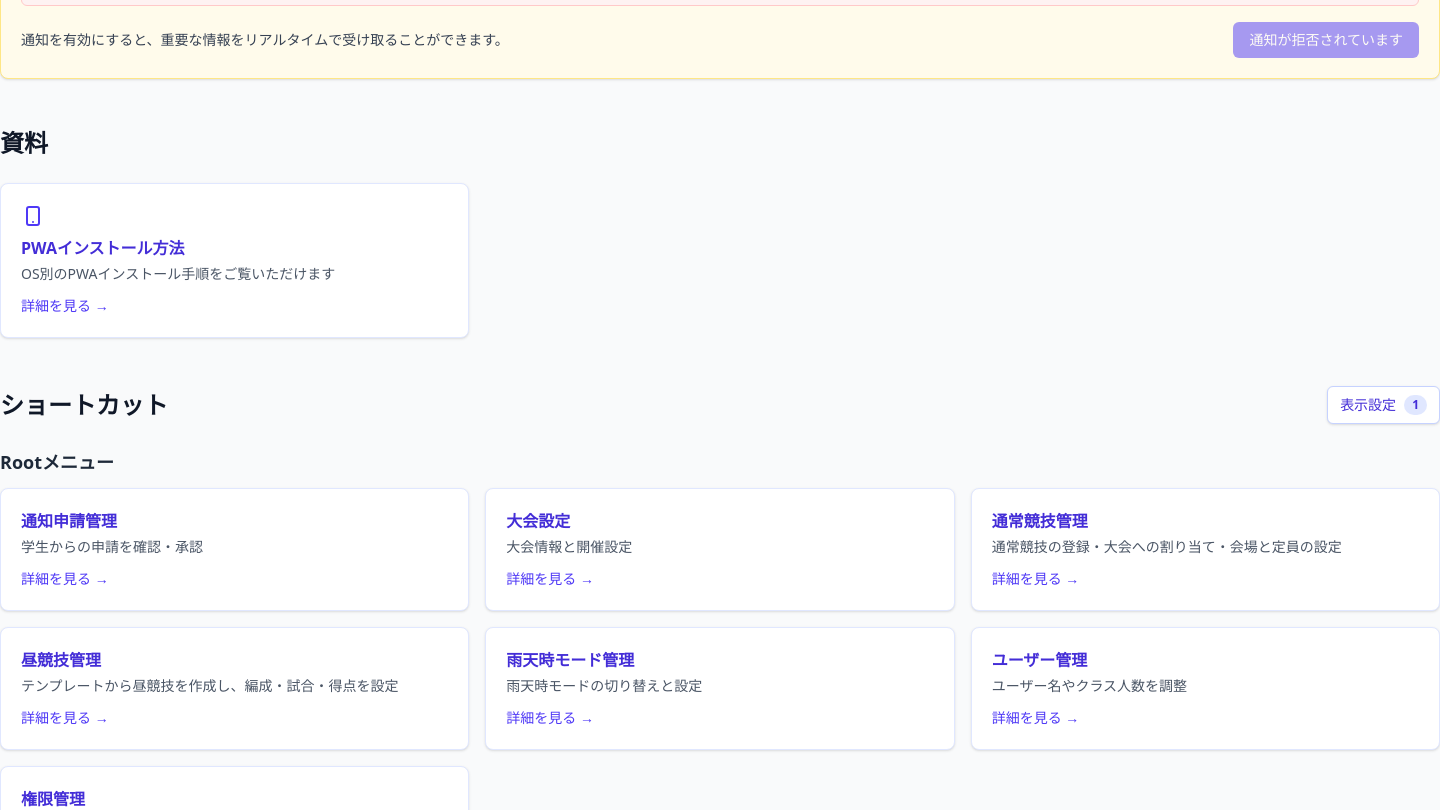
Test case: Dashboard › 非表示にしたショートカットをまとめて再表示できる
This screenshot has width=1440, height=810.
(page scrolled)
What coordinates should you click on to do the following:
click the button "表示設定 1"
I would click on:
 (1384, 405)
Its box is [1327,386,1439,424].
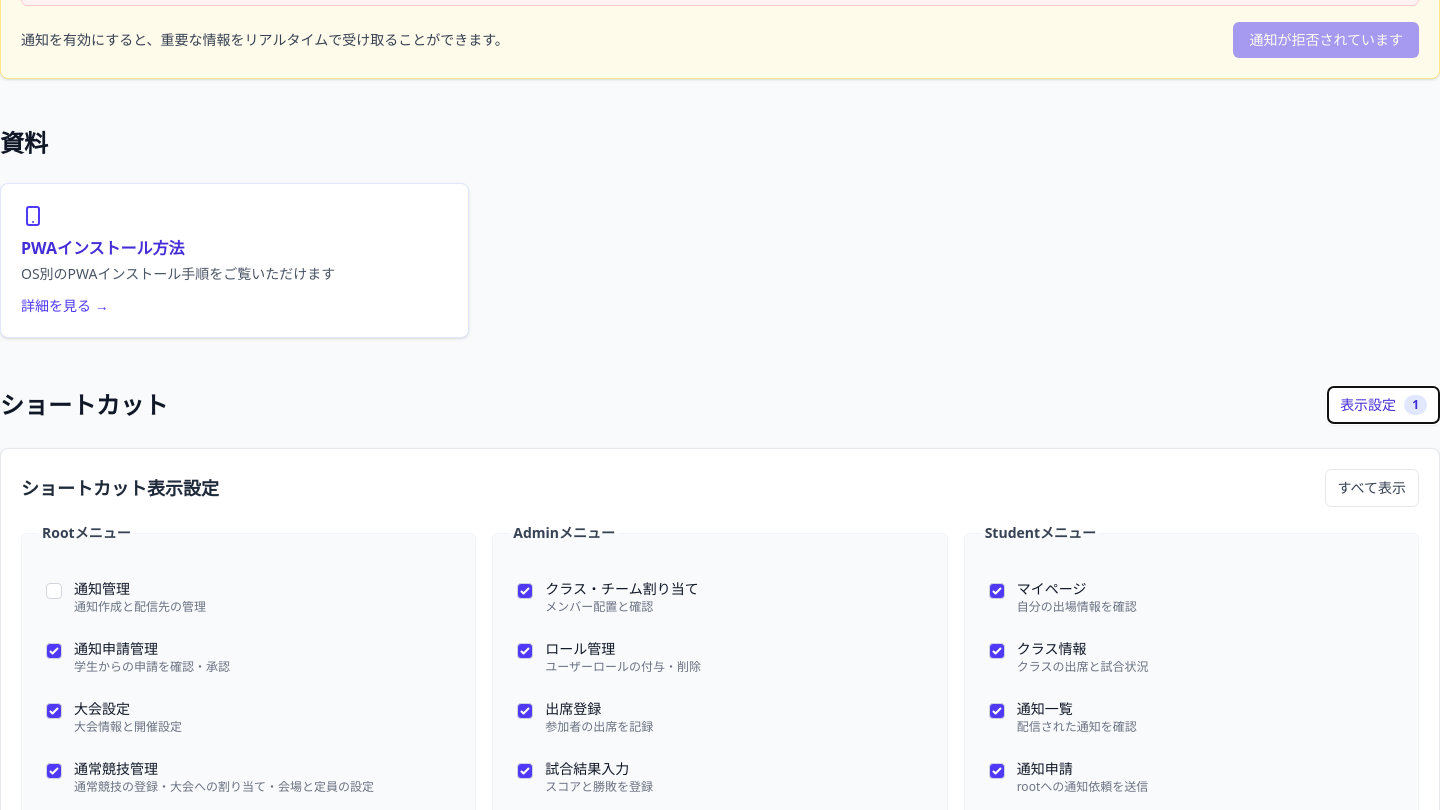
What coordinates should you click on to do the following:
click the button "すべて表示"
I would click on:
 (1372, 488)
Its box is [1324,469,1419,507].
(page scrolled)
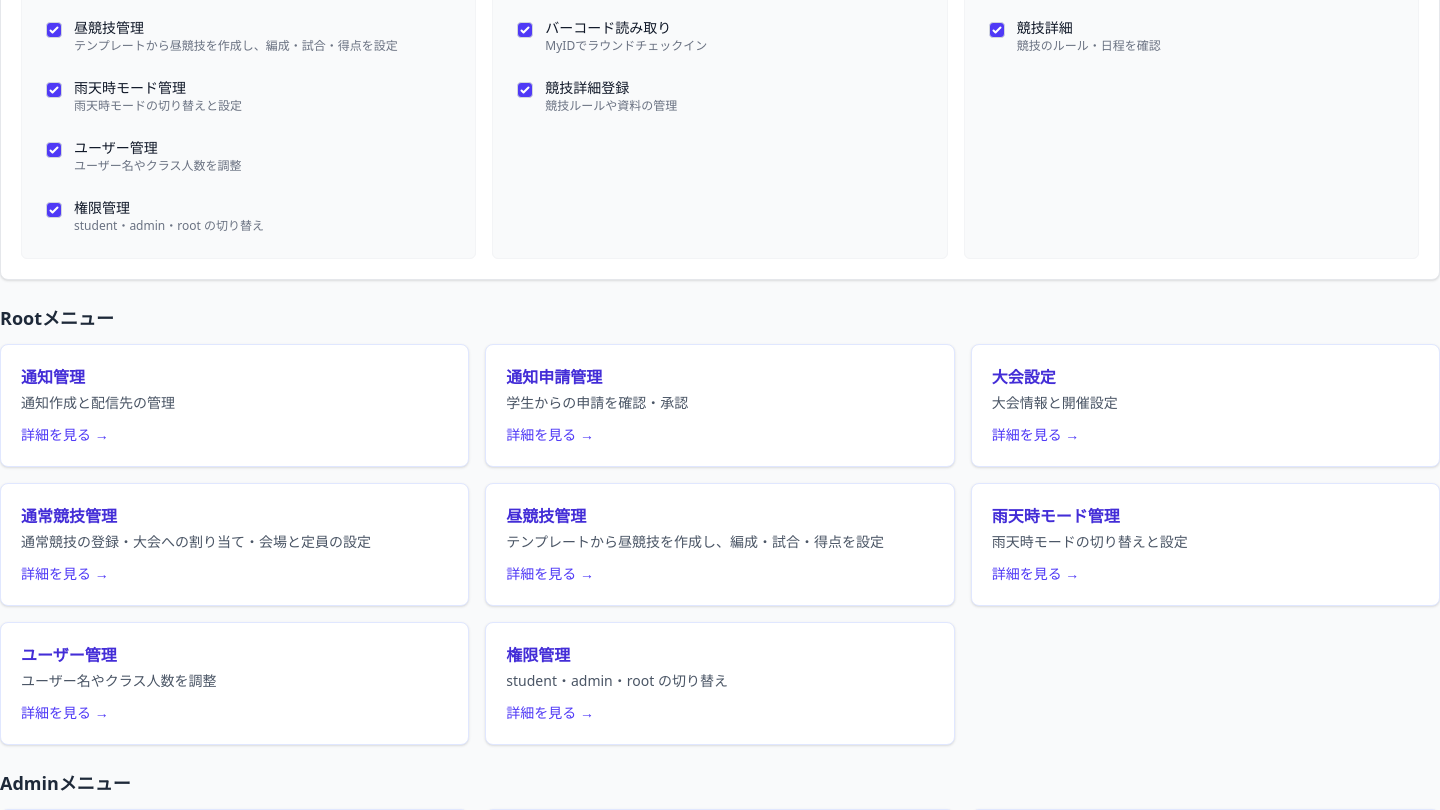
Now the link "通知管理 通知作成と配信先の管理 詳細を見る →" is shown, box [0,344,469,467]
